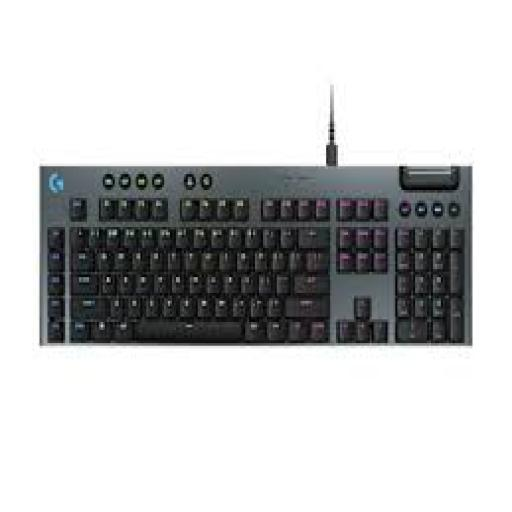KEYBOARD-2: (40, 166, 470, 343)
